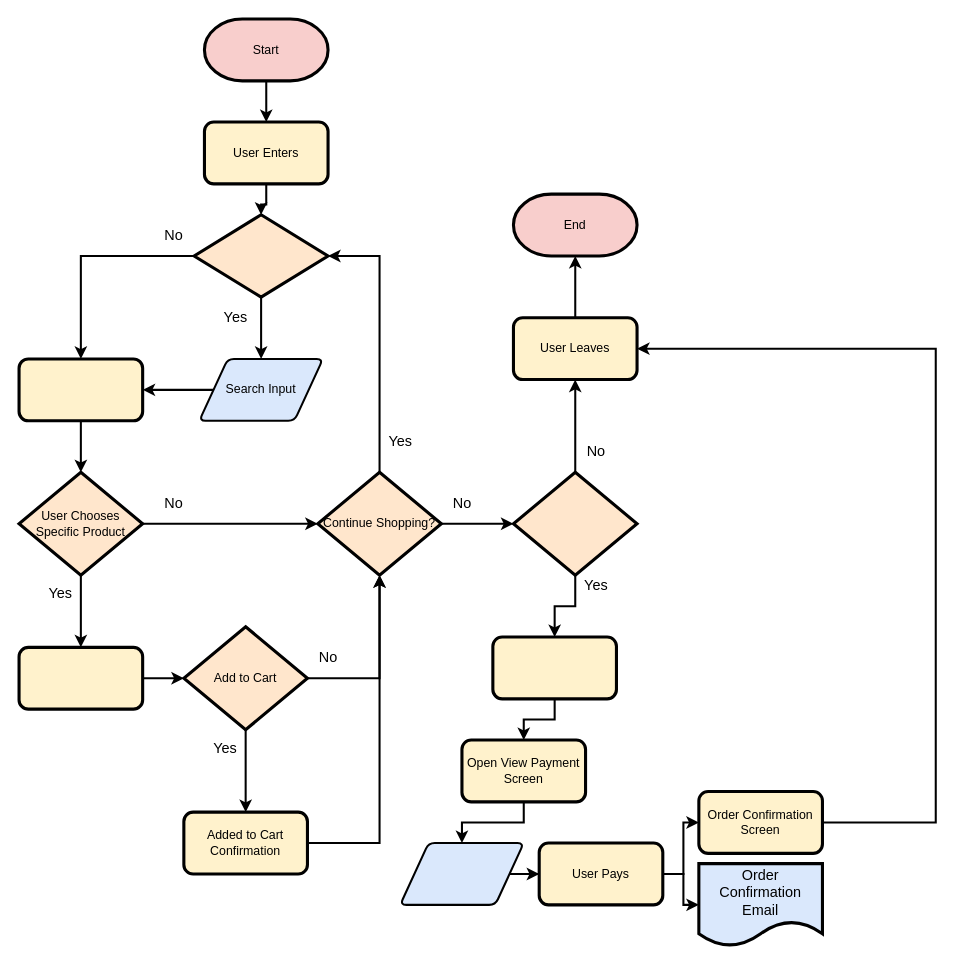
Some shapes in this 963 by 965 pixel diagram are drawn without their labels. Here are the shapes that lost their labels. From the top down, the centre of each, then its label:
At [260,255]: "Search for Product?".
At [80,389]: "Generate Products Page".
At [574,523]: "Checkout?".
At [80,677]: "Open Product Webpage".
At [554,667]: "Open View Cart Screen".
At [461,873]: "Payment Info Input".
